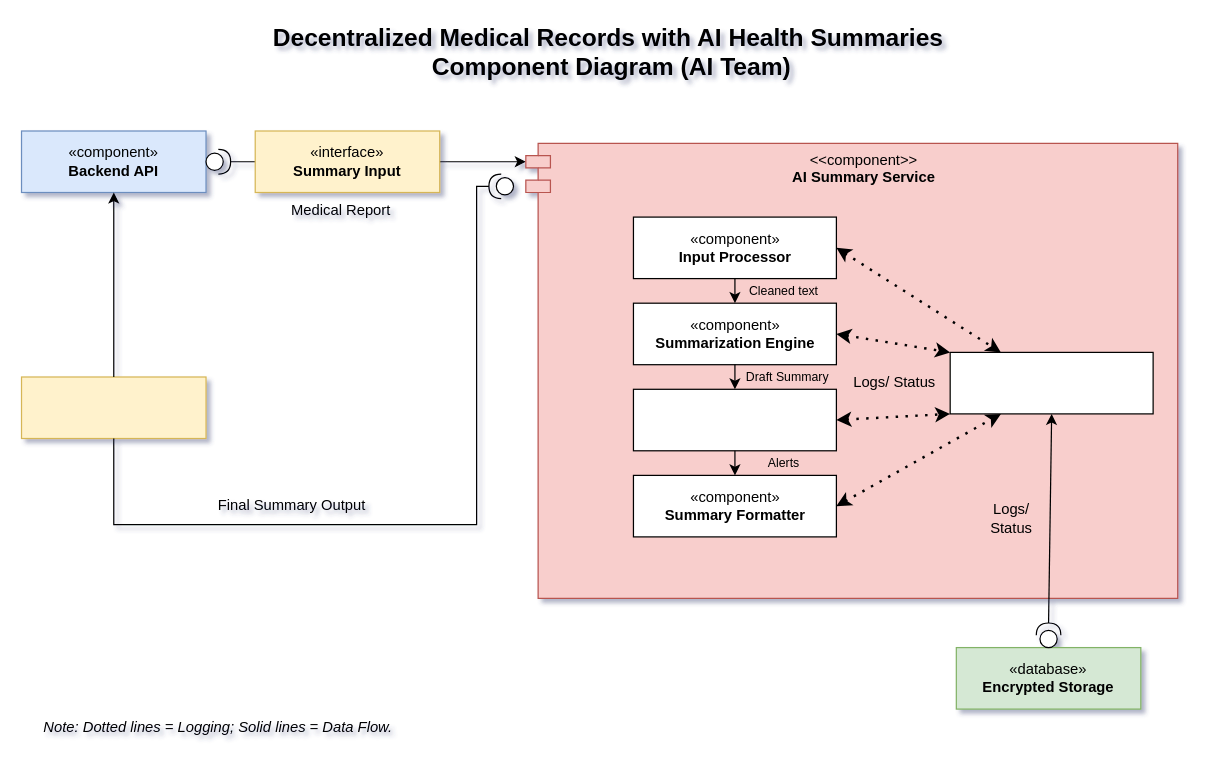
Image size: 1207x774. Some labels were removed from this diagram. Here are the shapes that lost their labels. From the top down, the box of each, then its label:
(949, 351, 1153, 414): «component» AI Logger
(20, 376, 206, 438): «interface» Summary Output
(632, 388, 836, 451): «component» Risk Analyzer
